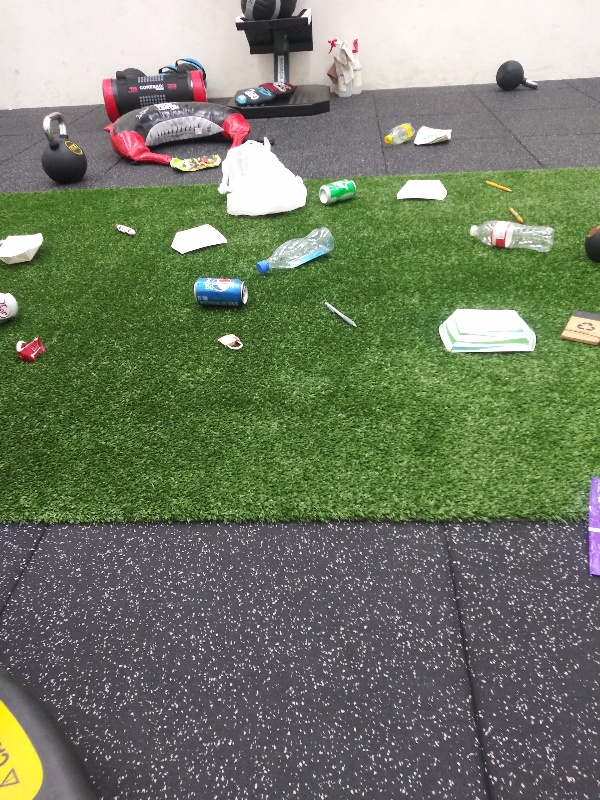bag: (584, 469, 600, 578), (164, 153, 224, 175), (411, 123, 457, 149)
bottle: (253, 223, 336, 277), (467, 219, 556, 257), (381, 120, 418, 148)
can: (191, 276, 250, 311), (315, 177, 360, 207), (1, 288, 22, 328)
plate: (437, 307, 539, 354), (167, 222, 231, 259), (1, 230, 48, 272), (395, 179, 450, 205)
